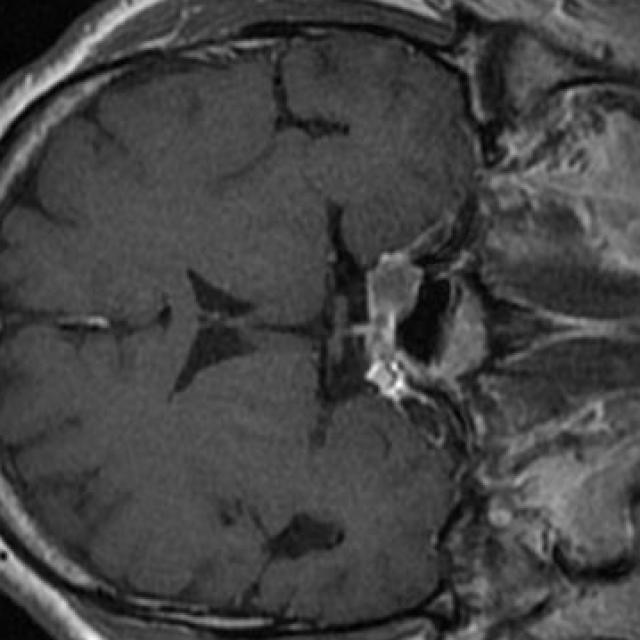pituitary: (365, 253, 424, 378)
